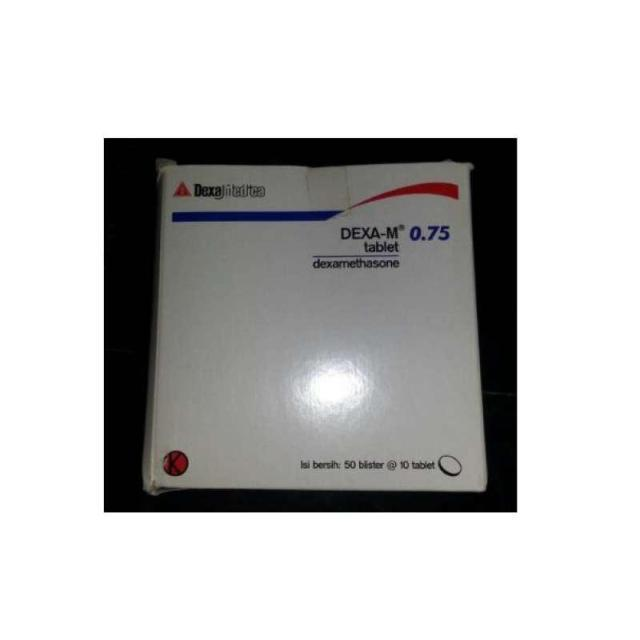drug-name: (338, 223, 452, 239)
